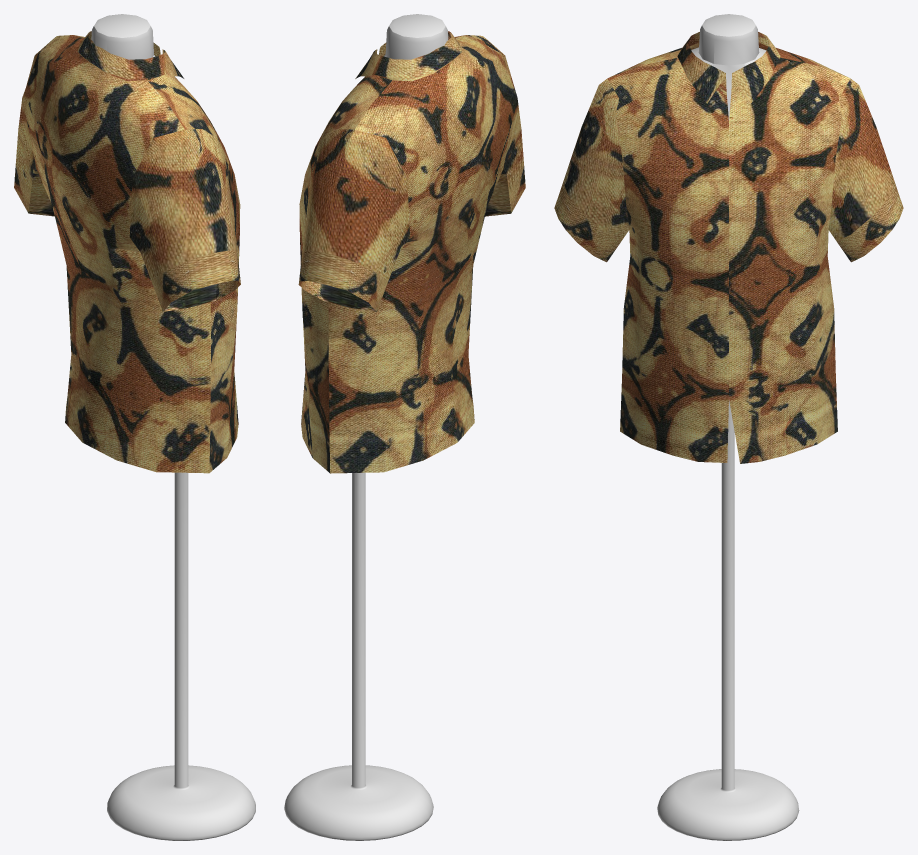
Rendered from Batik3.glb.
3 renders of one model, left to right at view 1: azimuth 30°, elevation 25°; view 2: azimuth 150°, elevation 25°; view 3: azimuth 270°, elevation 25°, orthographic. The views are drawn at different scales.
Visible parts, largest first — view 1: 1.002; view 2: 1.002; view 3: 1.002.
Part boxes in pixels (x1,y1,x2,y2): 1.002: [14, 14, 255, 840]; 1.002: [284, 14, 525, 840]; 1.002: [554, 14, 903, 840].
Bounding box in the file's own units: 32.02 × 132 × 54.84.
Materials: 2 (1 with a texture image).
